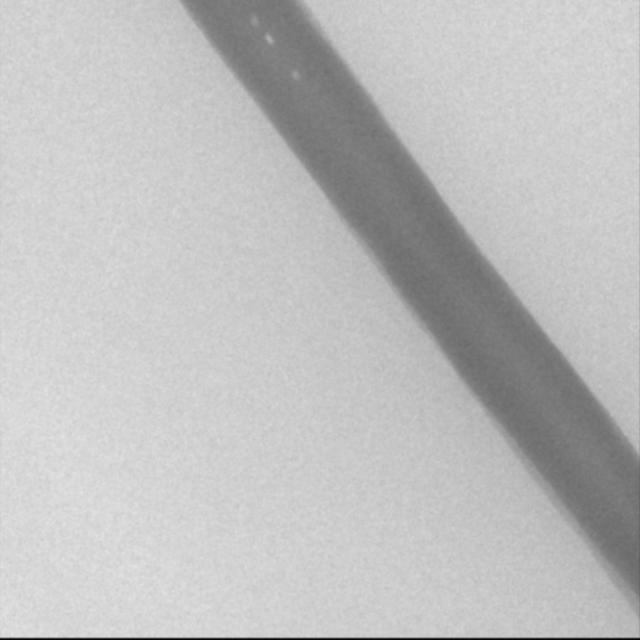air hole: (291, 68, 301, 83), (264, 33, 275, 46), (250, 14, 259, 29)
